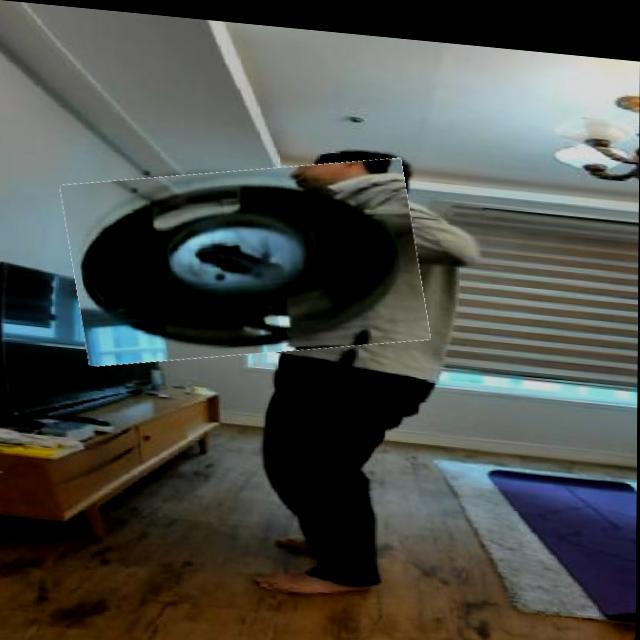barbell: (67, 140, 427, 377)
